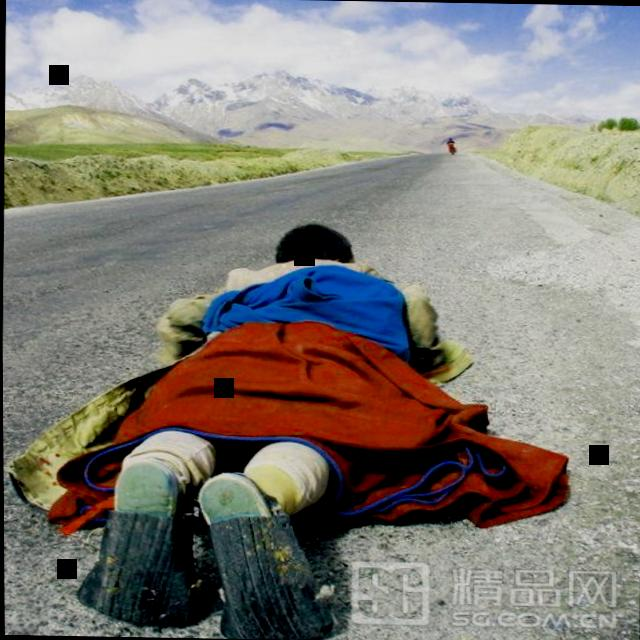Fall-Detected: (14, 204, 562, 640)
